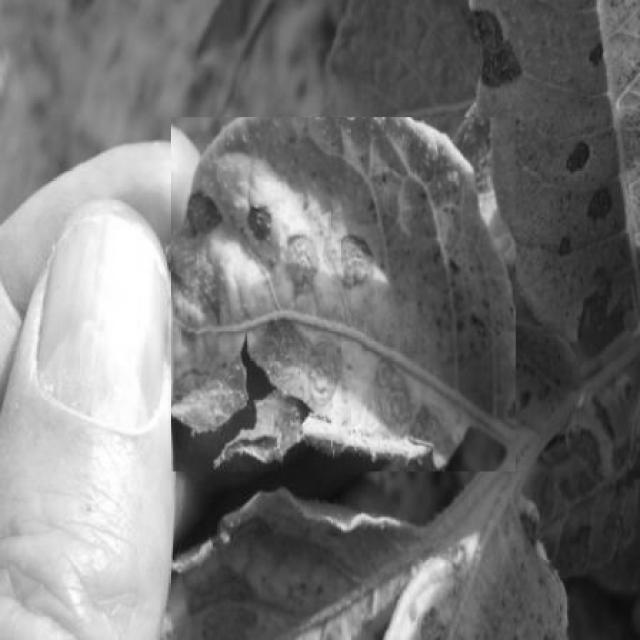Early Blight: (171, 118, 516, 472)
